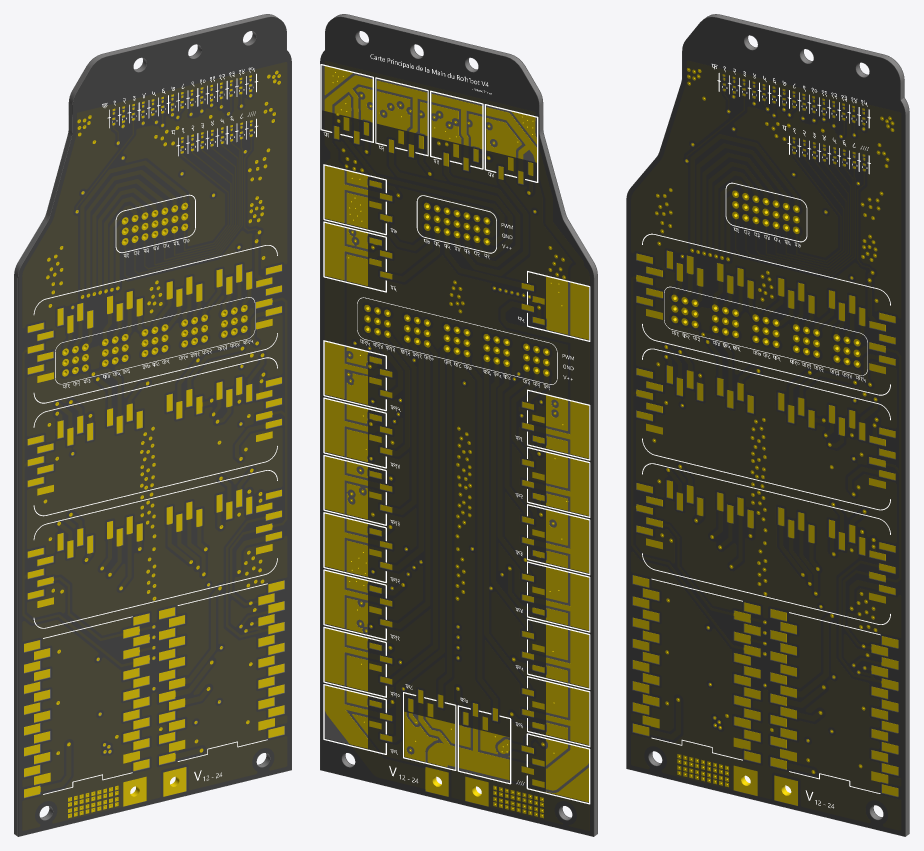
The model's file is PCB_mobo_foot_v54Black.glb.
3 views of the same model, side by side, from view 1: azimuth 30°, elevation 25°; view 2: azimuth 150°, elevation 25°; view 3: azimuth 330°, elevation 25° (orthographic).
Parts seen in each view (by area): view 1: Body1, Body1002, Board001, Body2, Shape_8, CopperHoles, Body1001; view 2: Body1001, Body1003, Body2001, Board001, Shape_9, CopperHoles, Body1; view 3: Body1, Body1002, Board001, Body2, Shape_8, CopperHoles, Body1001.
Boxes of the visible parts, left/top/right/bottom form: Body1: left=18, top=17, right=291, bottom=836; Body1002: left=24, top=78, right=284, bottom=797; Board001: left=14, top=14, right=284, bottom=836; Body2: left=34, top=70, right=280, bottom=818; Shape_8: left=33, top=67, right=277, bottom=794; CopperHoles: left=45, top=72, right=279, bottom=816; Body1001: left=14, top=14, right=272, bottom=833; Body1001: left=320, top=17, right=593, bottom=836; Body1003: left=324, top=75, right=588, bottom=796; Body2001: left=324, top=66, right=588, bottom=818; Board001: left=322, top=14, right=597, bottom=836; Shape_9: left=320, top=54, right=590, bottom=804; CopperHoles: left=332, top=72, right=566, bottom=816; Body1: left=339, top=14, right=597, bottom=833; Body1: left=626, top=17, right=905, bottom=836; Body1002: left=633, top=78, right=898, bottom=805; Board001: left=632, top=14, right=909, bottom=836; Body2: left=642, top=68, right=894, bottom=795; Shape_8: left=642, top=64, right=890, bottom=808; CopperHoles: left=654, top=69, right=893, bottom=795; Body1001: left=652, top=14, right=909, bottom=833.
Size of the model in its own units: 70 by 185 by 1.87.
